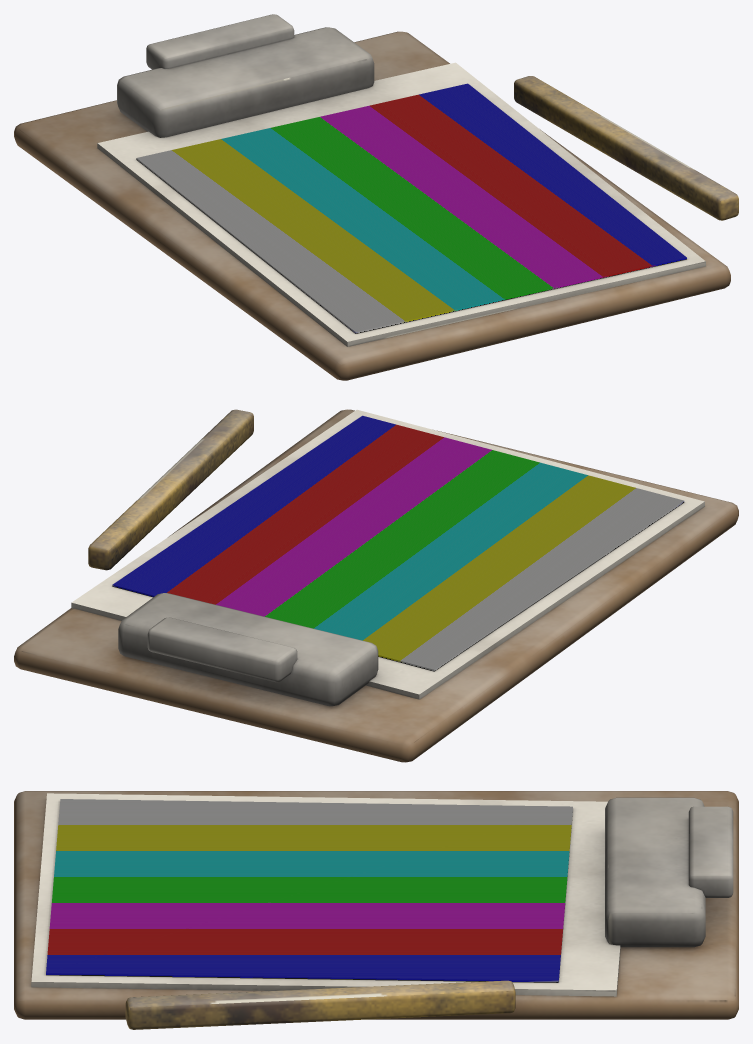
File: mission_clipboard.fbx
3 renders of one model, top to bottom at view 1: azimuth 30°, elevation 25°; view 2: azimuth 150°, elevation 25°; view 3: azimuth 270°, elevation 25°, orthographic. The views are drawn at different scales.
Visible parts, largest first — view 1: Body, Screen; view 2: Screen, Body; view 3: Screen, Body.
Part boxes in pixels (box(x1,y1,x2,y2)): Body: box(14, 14, 738, 380); Screen: box(136, 83, 686, 333); Screen: box(112, 415, 684, 671); Body: box(14, 409, 738, 762); Screen: box(46, 799, 572, 982); Body: box(14, 791, 738, 1029).
Size of the model in its own units: 1.03 by 0.155 by 1.3.
2 materials, 2 textured.
